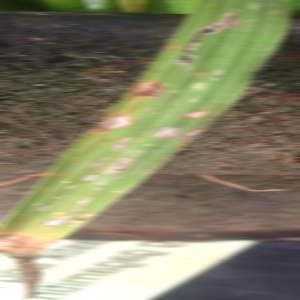Brown_Spot: (107, 69, 174, 109), (174, 94, 222, 132), (90, 105, 139, 139), (143, 123, 179, 154)
